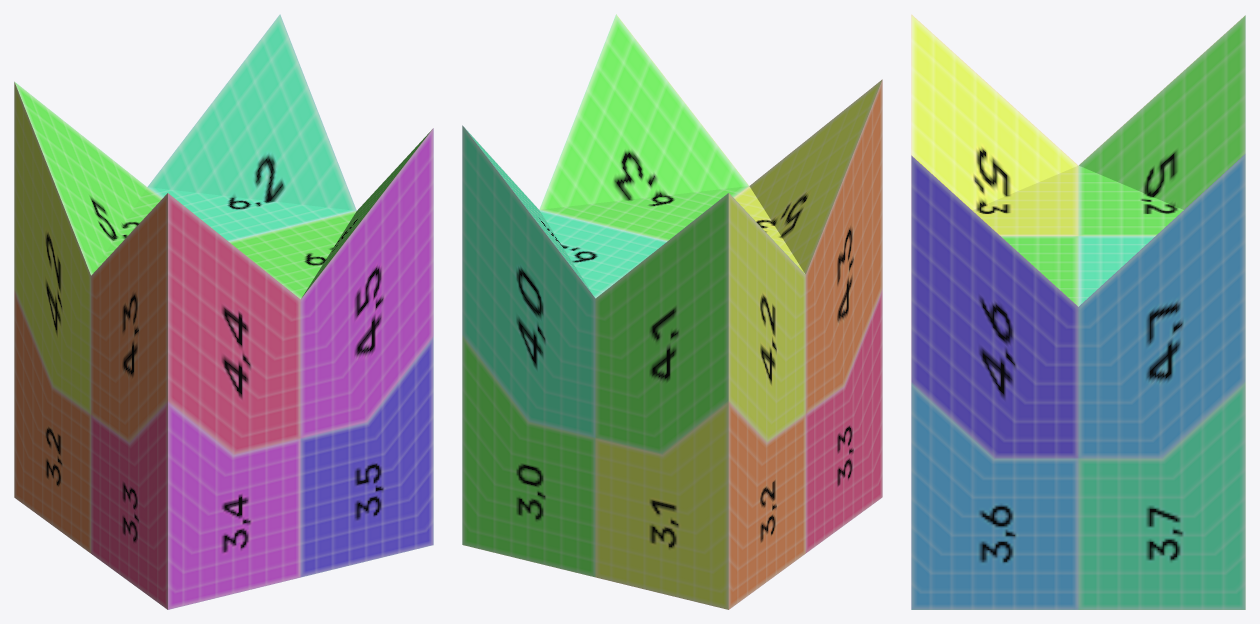
The model's file is KING.obj.
The picture shows the model from 3 angles, left to right: view 1: azimuth 30°, elevation 25°; view 2: azimuth 150°, elevation 25°; view 3: azimuth 270°, elevation 25°; orthographic projection. The views are drawn at different scales.
Visible parts, largest first — view 1: KING_立方体; view 2: KING_立方体; view 3: KING_立方体.
Boxes of the visible parts, x1=… form: KING_立方体: x1=14, y1=14, x2=433, y2=609; KING_立方体: x1=462, y1=14, x2=882, y2=609; KING_立方体: x1=911, y1=14, x2=1245, y2=609.
Size of the model in its own units: 2 by 3.01 by 2.
